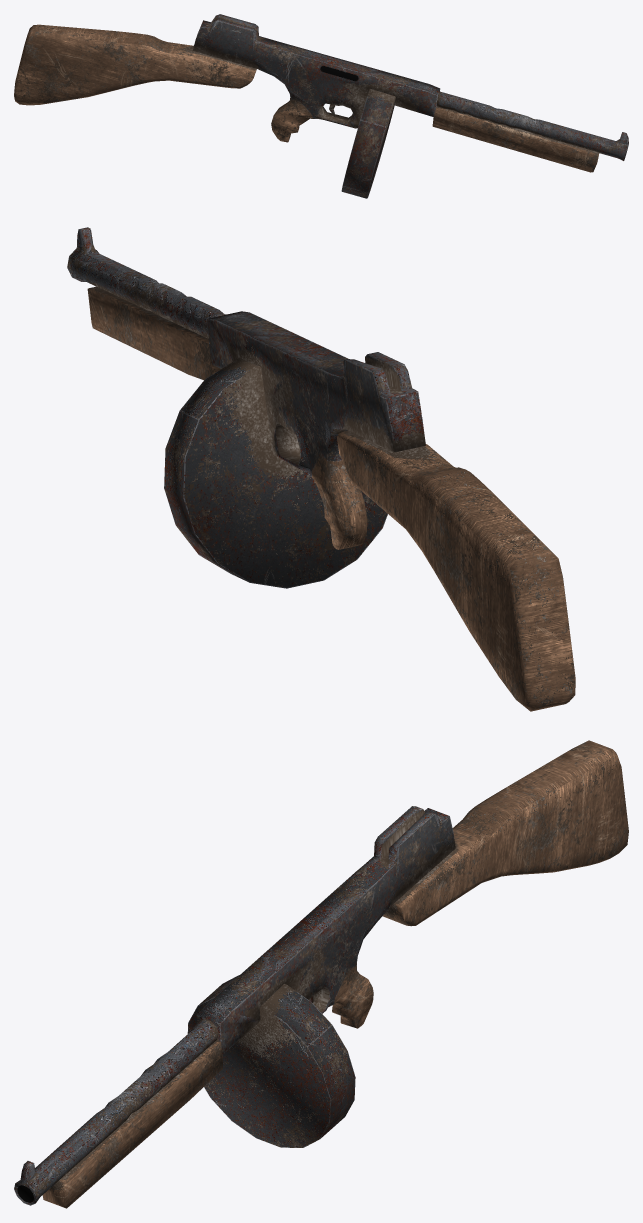
Rendered from Anim_disparar_ametralladora_objetos.0031.obj.
3 renders of one model, top to bottom at view 1: azimuth 30°, elevation 25°; view 2: azimuth 150°, elevation 25°; view 3: azimuth 270°, elevation 25°, orthographic. The views are drawn at different scales.
Visible parts, largest first — view 1: Ametralladora1; view 2: Ametralladora1; view 3: Ametralladora1.
Part boxes in pixels (bbox=[...]): Ametralladora1: bbox=[14, 14, 628, 198]; Ametralladora1: bbox=[67, 227, 575, 711]; Ametralladora1: bbox=[14, 740, 628, 1208].
Bounding box in the file's own units: 4.94 × 1.8 × 3.89.
